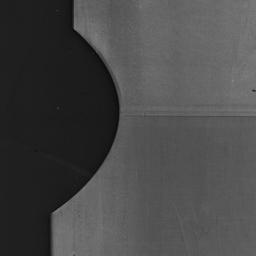Crescent gap: (55, 30, 120, 210)
